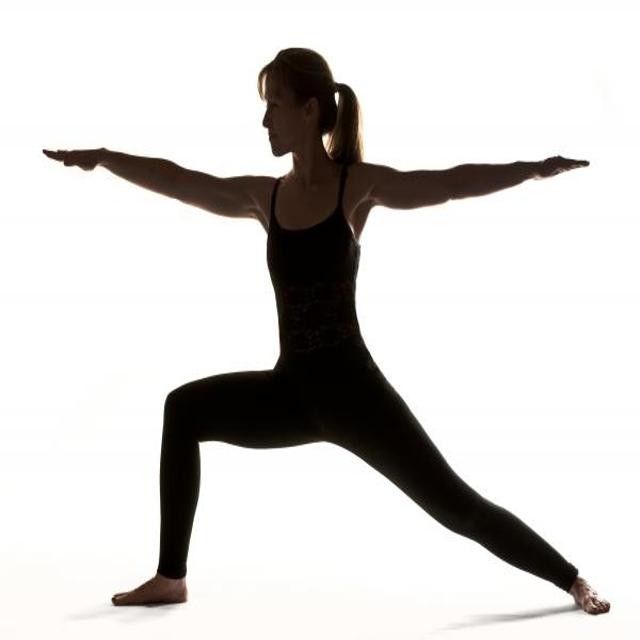Warrior_II: (42, 47, 618, 616)
